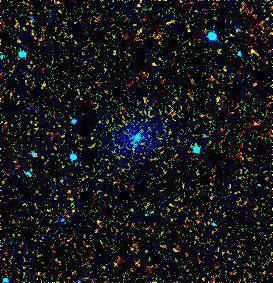star: (236, 37, 266, 67)
